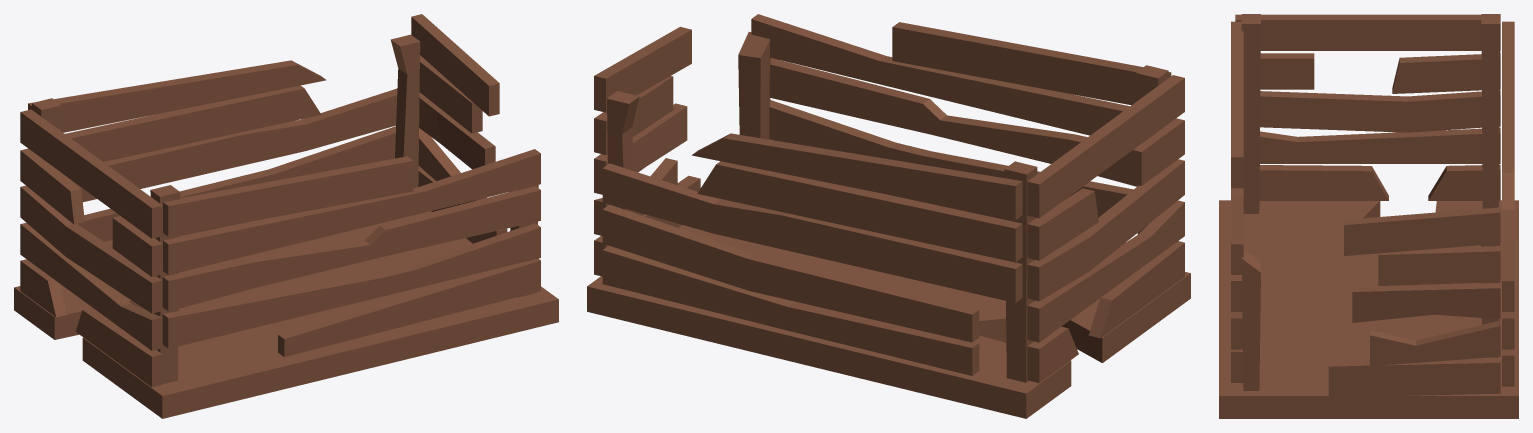
Rendered from Caixa_3_quebrada.fbx.
3 renders of one model, left to right at view 1: azimuth 30°, elevation 25°; view 2: azimuth 150°, elevation 25°; view 3: azimuth 270°, elevation 25°, orthographic. The views are drawn at different scales.
Visible parts, largest first — view 1: Caixa_3_quebrada; view 2: Caixa_3_quebrada; view 3: Caixa_3_quebrada.
Boxes of the visible parts, x1,y1,x2,y2 form: Caixa_3_quebrada: (14, 14, 558, 418); Caixa_3_quebrada: (587, 14, 1190, 418); Caixa_3_quebrada: (1219, 14, 1518, 418).
Bounding box in the file's own units: 1.04 × 1.63 × 0.8151.
